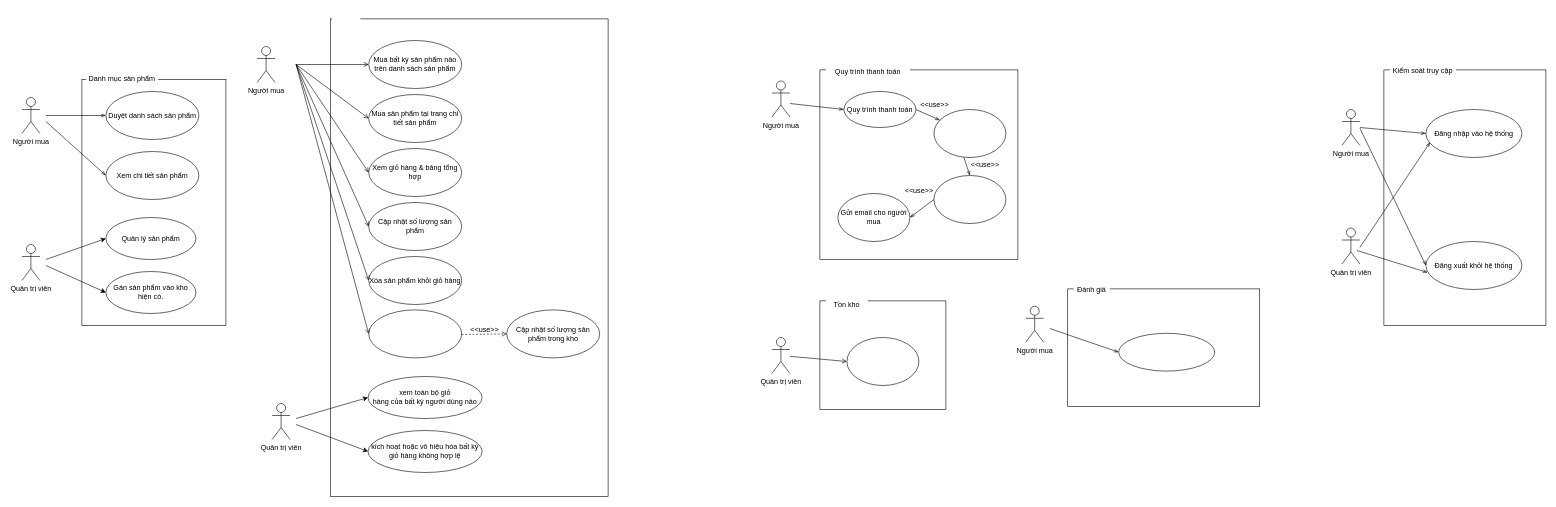
The diagram is 1556 pixels wide and 507 high, and some of its shapes have lost their labels. The box of each missing label's shape, as (x1, y1, x2, y2) in pixels:
Giỏ hàng: (332, 10, 360, 28)
quản lý kho hàng.: (846, 337, 919, 386)
Thanh toán: (368, 309, 462, 358)
Tạo đánh giá sản phẩm: (1118, 333, 1215, 371)
Xác thực thông tin sản phẩm: (933, 109, 1006, 158)
Xử lý thanh toán: (933, 175, 1006, 224)
